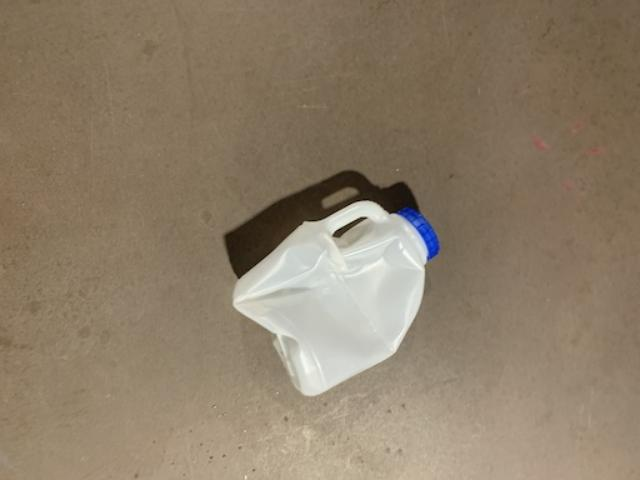plastic: (231, 200, 436, 394)
